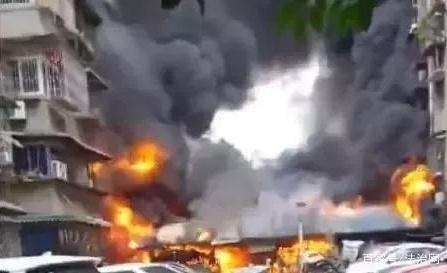fire: (88, 141, 166, 259), (389, 157, 441, 225)
